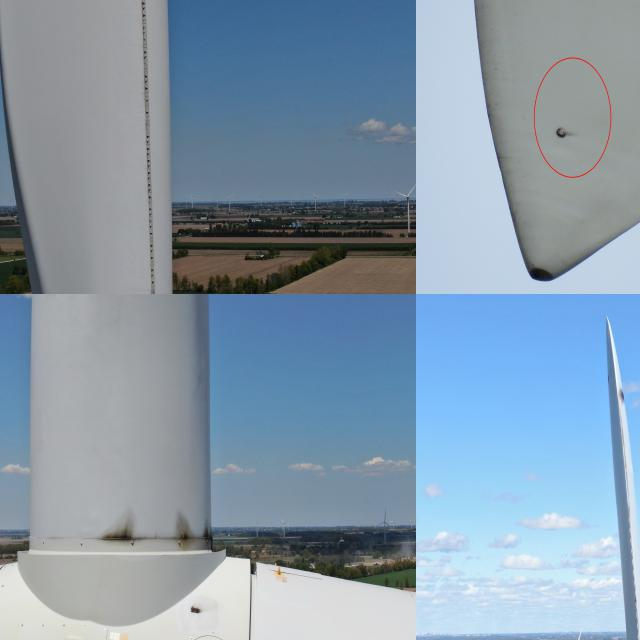damage: (167, 509, 220, 549), (96, 506, 136, 550), (551, 109, 573, 149), (142, 119, 152, 142), (616, 384, 626, 406), (148, 286, 157, 293)
